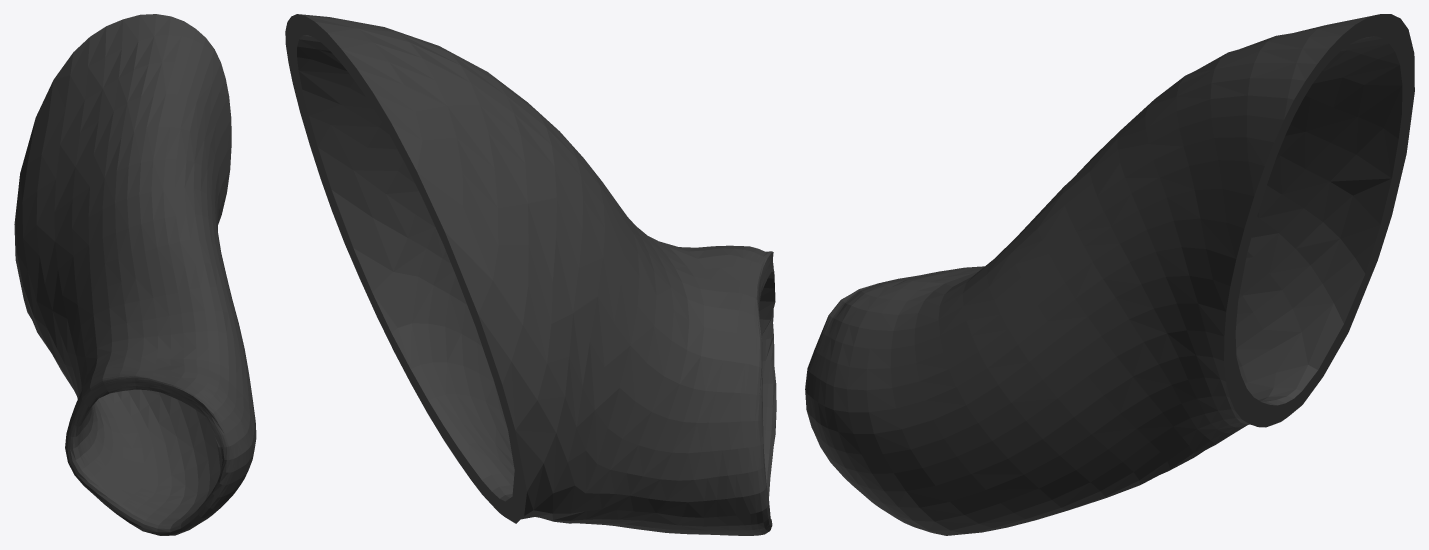
Rendered from stom_pylorus_LP.glb.
The picture shows the model from 3 angles, left to right: view 1: azimuth 30°, elevation 25°; view 2: azimuth 150°, elevation 25°; view 3: azimuth 270°, elevation 25°; orthographic projection. The views are drawn at different scales.
Visible parts, largest first — view 1: stom_pylorus_LP; view 2: stom_pylorus_LP; view 3: stom_pylorus_LP.
Part boxes in pixels (x1,y1,x2,y2): stom_pylorus_LP: (14,14,256,535); stom_pylorus_LP: (285,14,776,535); stom_pylorus_LP: (805,14,1414,535).
Size of the model in its own units: 0.4566 by 0.7302 by 0.6844.
1 material, 1 textured.
